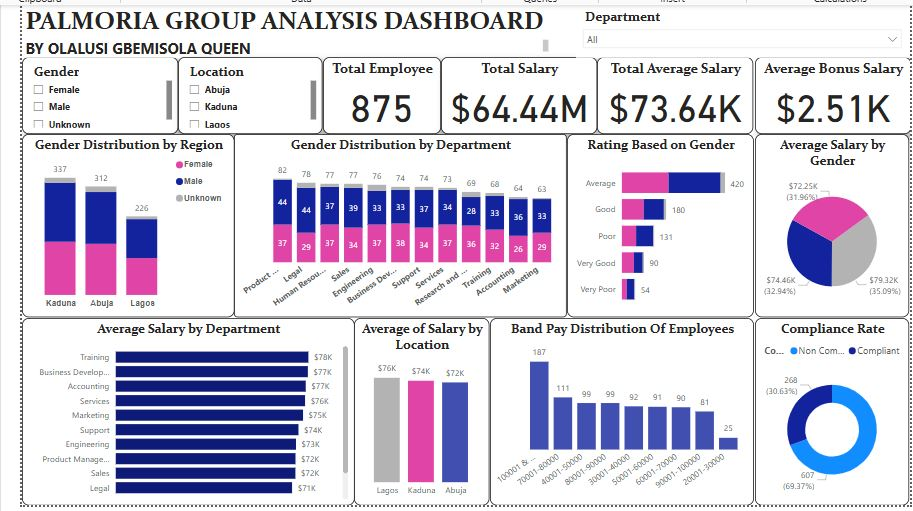

The dashboard page shown, as its layout file describes it:
{"tool":"powerbi","page":{"name":"DASHBOARD","canvas":[1280,720],"ordinal":0},"visuals":[{"type":"slicer","fields":{"Values":["Merge Data.Gender"]},"box":[0,75.6,225.1,110.9],"z":0},{"type":"textbox","title":"PALMORIA GROUP ANALYSIS DASHBOARD","box":[0,0,762.6,75.6],"z":1000},{"type":"slicer","fields":{"Values":["Merge Data.Location"]},"box":[225.1,75.6,208.3,110.9],"z":2000},{"type":"card","title":"Total Employee","fields":{"Values":["CountNonNull(Merge Data.Name)"]},"box":[433.4,75.6,169.7,110.9],"z":3000},{"type":"card","title":"Total Salary","fields":{"Values":["Sum(Merge Data.Salary)"]},"box":[603,75.6,225.1,110.9],"z":4000},{"type":"columnChart","title":"Gender Distribution by Region","fields":{"Category":["Merge Data.Location"],"Y":["CountNonNull(Merge Data.Name)"],"Series":["Merge Data.Gender"]},"box":[0,186.5,305.7,263.7],"z":5000},{"type":"columnChart","title":"Gender Distribution by Department","fields":{"Category":["Merge Data.Department"],"Y":["CountNonNull(Merge Data.Name)"],"Series":["Merge Data.Gender"]},"box":[305.7,186.5,478.7,263.7],"z":6000},{"type":"barChart","title":"Rating Based on Gender","fields":{"Category":["Merge Data.Rating"],"Series":["Merge Data.Gender"],"Y":["CountNonNull(Merge Data.Name)"]},"box":[784.5,186.5,268.8,263.7],"z":7000},{"type":"barChart","title":"Average Salary by Department","fields":{"Category":["Merge Data.Department"],"Y":["Avg(Merge Data.Salary)"]},"box":[0,450.2,478.7,270.4],"z":8000},{"type":"card","title":"Total Average Salary","fields":{"Values":["Avg(Merge Data.Salary)"]},"box":[828.1,75.6,225.1,110.9],"z":9000},{"type":"card","title":"Average Bonus Salary","fields":{"Values":["Avg(Merge Data.Bonus)"]},"box":[1054.9,75.6,225.1,110.9],"z":10000},{"type":"pieChart","title":"Average Salary by Gender","fields":{"Category":["Merge Data.Gender"],"Y":["Avg(Merge Data.Salary)"]},"box":[1054.9,186.5,221.7,263.7],"z":11000},{"type":"columnChart","fields":{"Category":["Merge Data.Location"],"Y":["Avg(Merge Data.Salary)"]},"box":[478.7,450.2,194.9,270.4],"z":12000},{"type":"columnChart","title":"Band Pay Distribution Of Employees","fields":{"Category":["Merge Data.Salary Band"],"Y":["CountNonNull(Merge Data.Name)"]},"box":[673.6,450.2,379.6,270.4],"z":13000},{"type":"slicer","fields":{"Values":["Merge Data.Department"]},"box":[797.9,0,478.7,75.6],"z":14000},{"type":"donutChart","title":"Compliance Rate ","fields":{"Y":["CountNonNull(Merge Data.Name)"],"Category":["Merge Data.Compliance Rate"]},"box":[1055,450,222,270],"z":15000}]}

Visuals, with their boxes in screenshot pixels (x1, y1, x2, y2):
slicer - Merge Data.Gender: bbox(14, 53, 172, 131)
"PALMORIA GROUP ANALYSIS DASHBOARD" textbox: bbox(14, 0, 548, 53)
slicer - Merge Data.Location: bbox(172, 53, 318, 131)
"Total Employee" card: bbox(318, 53, 437, 131)
"Total Salary" card: bbox(436, 53, 594, 131)
"Gender Distribution by Region" columnChart: bbox(14, 131, 228, 315)
"Gender Distribution by Department" columnChart: bbox(228, 131, 563, 315)
"Rating Based on Gender" barChart: bbox(564, 131, 752, 315)
"Average Salary by Department" barChart: bbox(14, 315, 349, 505)
"Total Average Salary" card: bbox(594, 53, 752, 131)
"Average Bonus Salary" card: bbox(753, 53, 910, 131)
"Average Salary by Gender" pieChart: bbox(753, 131, 908, 315)
columnChart - Merge Data.Location x Avg(Merge Data.Salary): bbox(349, 315, 486, 505)
"Band Pay Distribution Of Employees" columnChart: bbox(486, 315, 752, 505)
slicer - Merge Data.Department: bbox(573, 0, 908, 53)
"Compliance Rate " donutChart: bbox(753, 315, 908, 504)
